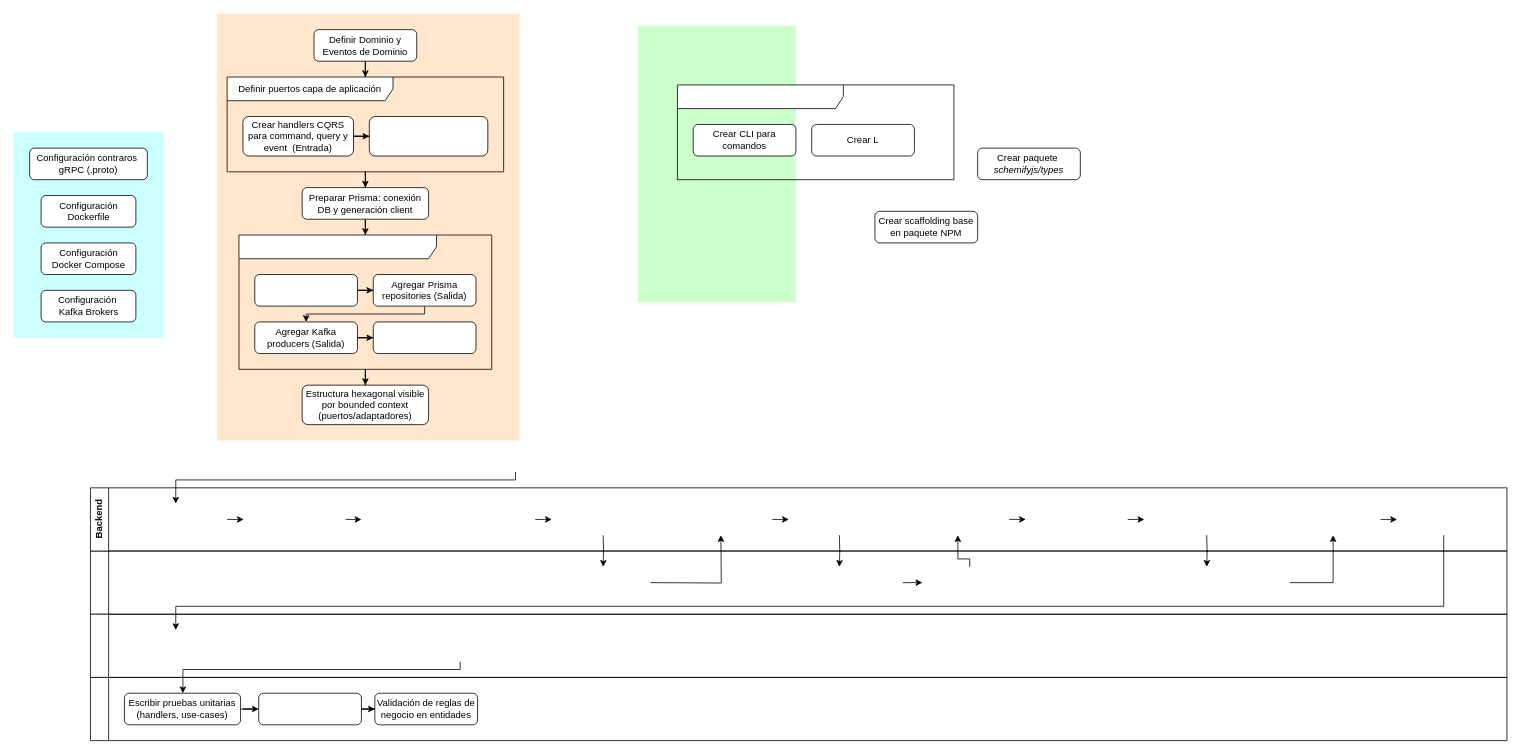
Some shapes in this 1521 by 754 pixel diagram are drawn without their labels. Each missing label, with the box of its shape:
Agregar gRPC controllers (Entrada): (254, 274, 357, 306)
Agregar Kafka consumers (Entrada): (372, 321, 476, 354)
CLI Core: (90, 613, 1507, 677)
Crear paquetes de NPM: (677, 84, 954, 180)
Definir adaptadores capa Infraestructura: (238, 234, 492, 369)
Definir Repositorios y Productores de mensajes (Salida): (369, 116, 488, 156)
Infra: (90, 550, 1507, 614)
Pruebas e2e gRPC y Kafka: (258, 692, 361, 725)
QA: (90, 677, 1507, 741)
